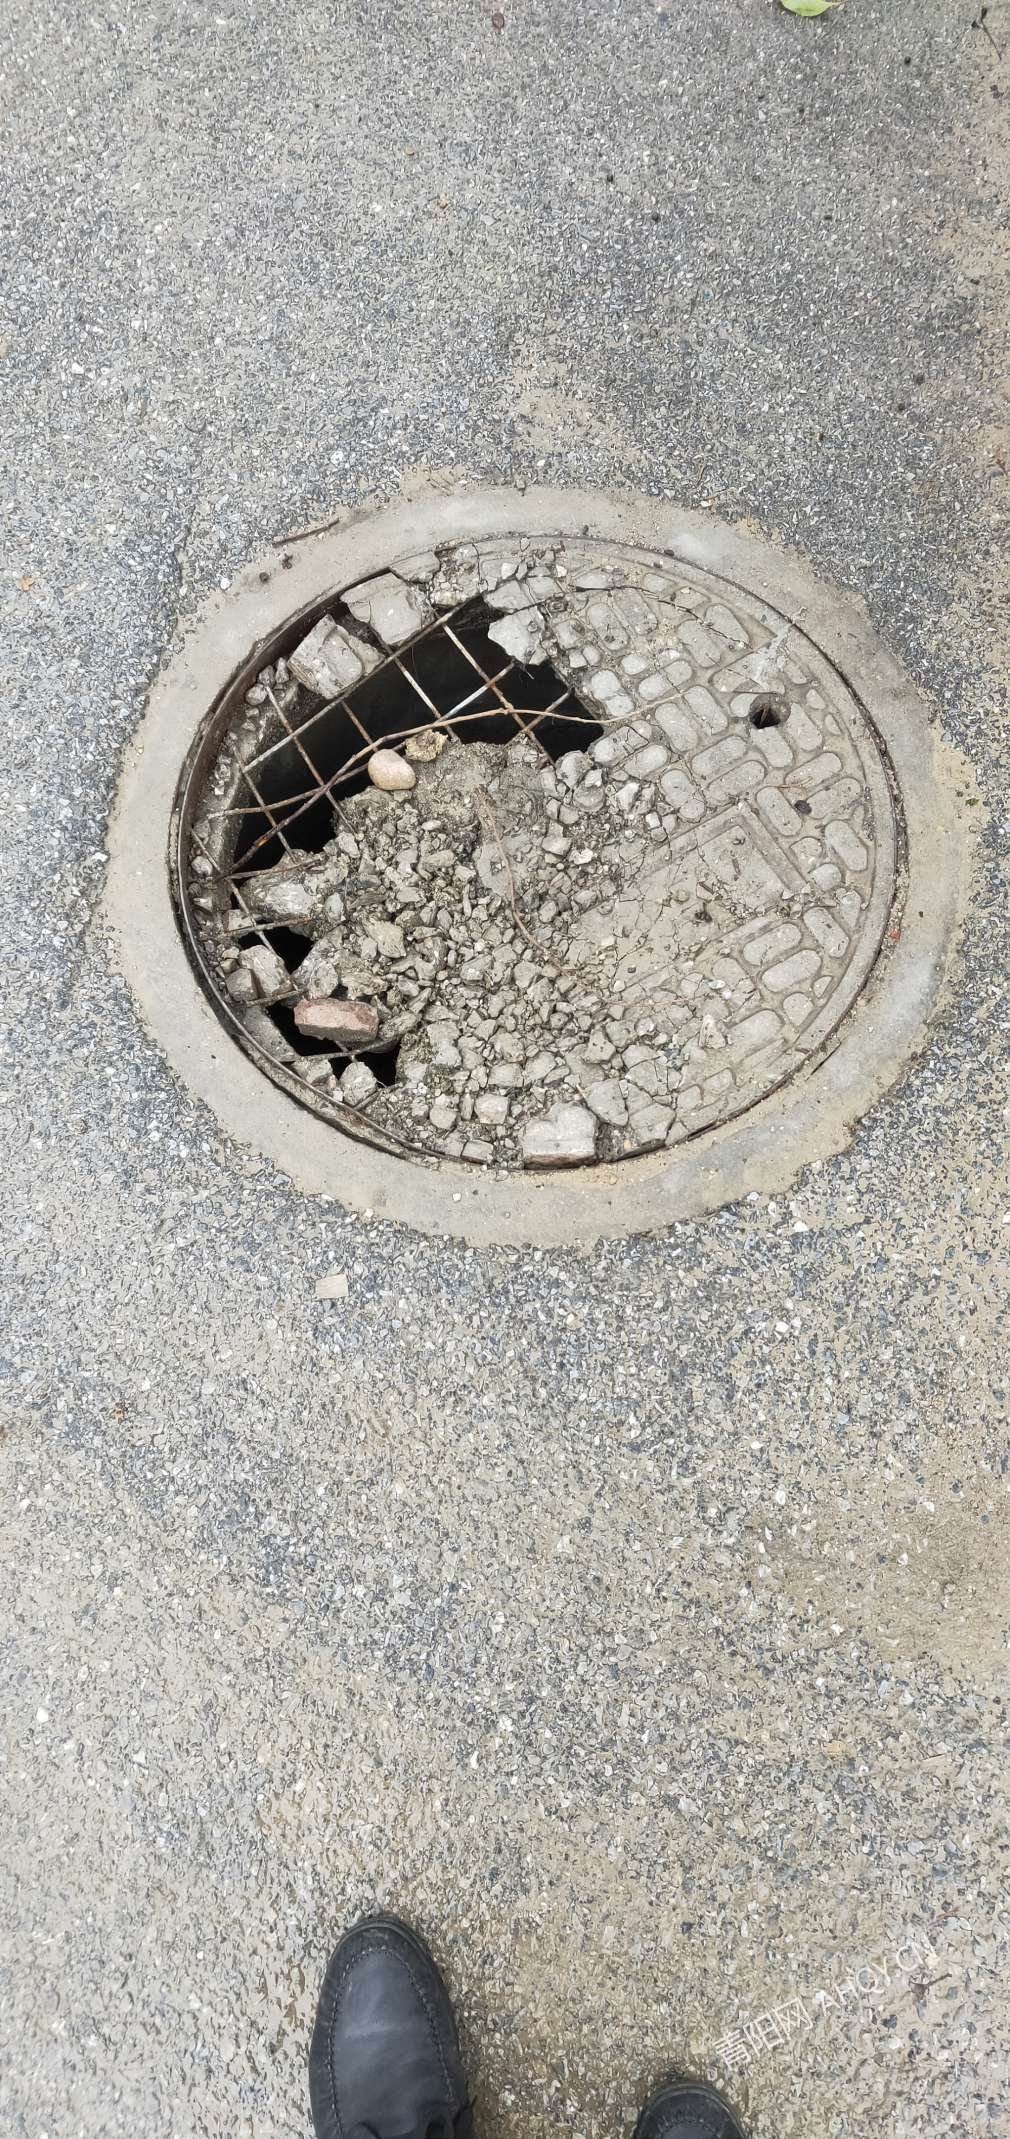broke: (106, 491, 957, 1255)
